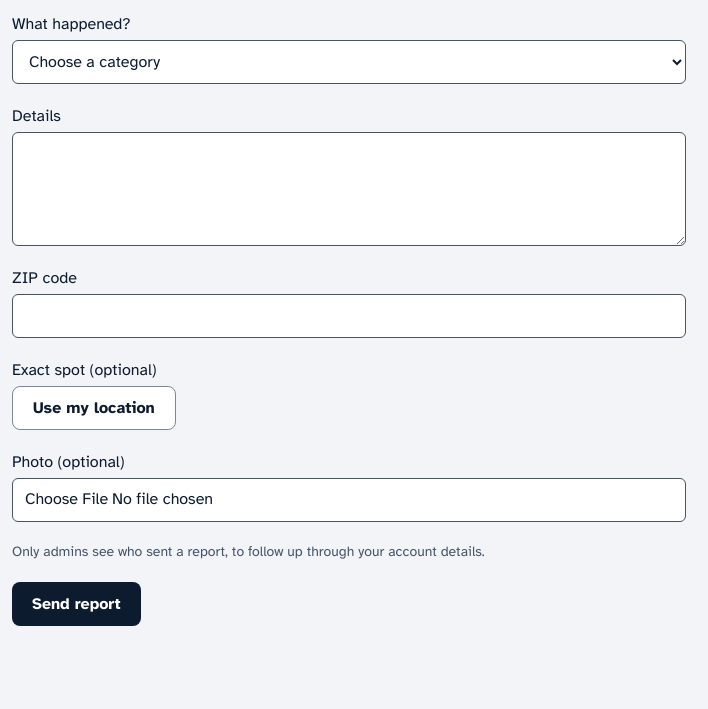
Test: IncidentForm › shows the service's refusal
Select "Other" in the dropdown labelled "What happened?" at {"x": 349, "y": 62}, box [12, 40, 686, 84]
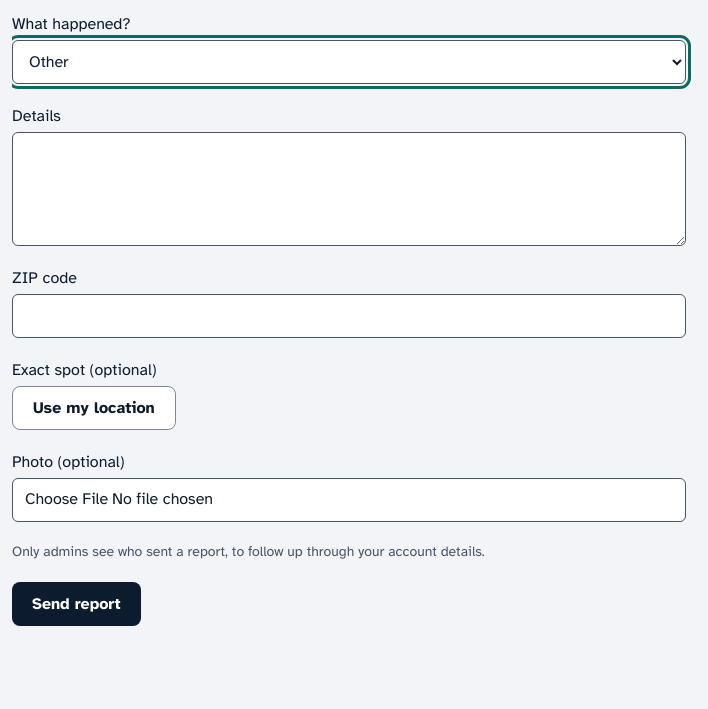
Type "x" into the text box labelled "Details" at {"x": 349, "y": 189}, box [12, 132, 686, 246]
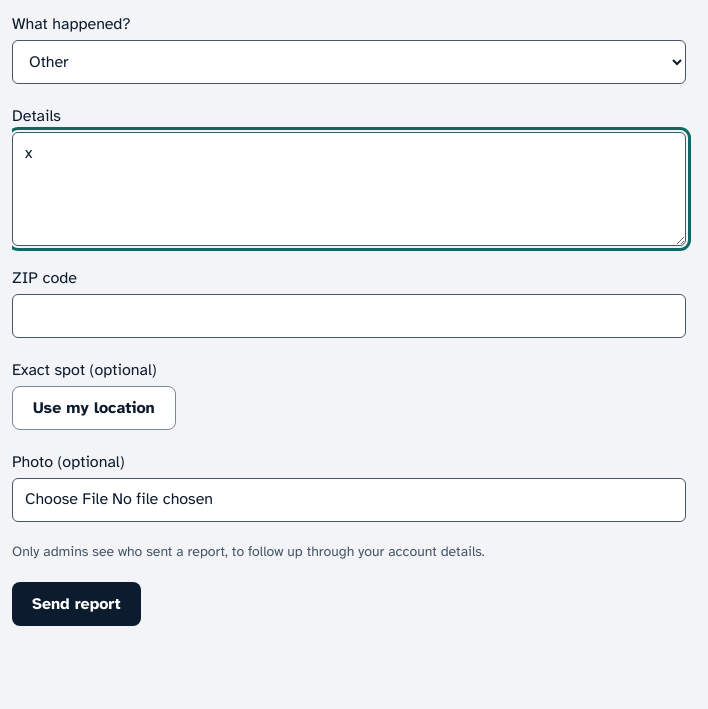
Type "94110" into the field labelled "ZIP code" at {"x": 349, "y": 316}, box [12, 294, 686, 338]
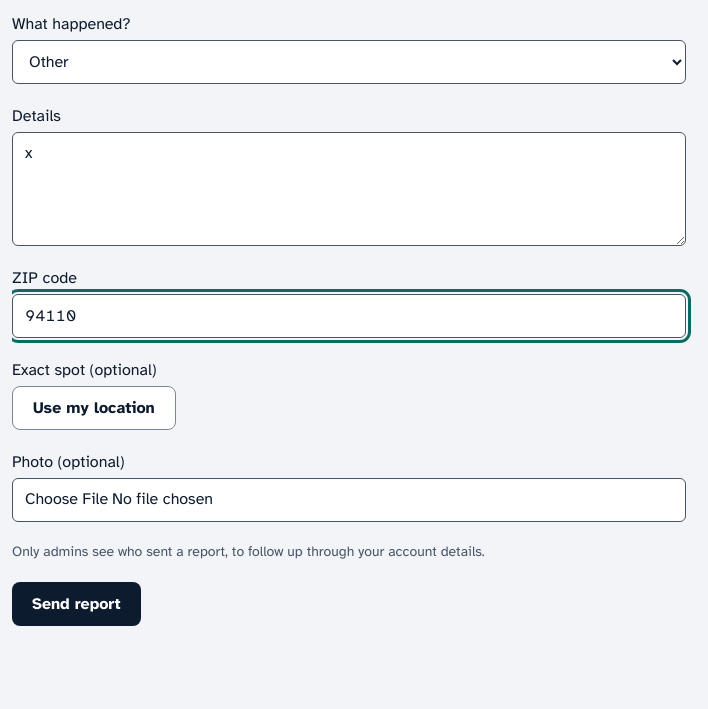
Click the button "Use my location" at {"x": 94, "y": 408}, box [12, 386, 176, 430]
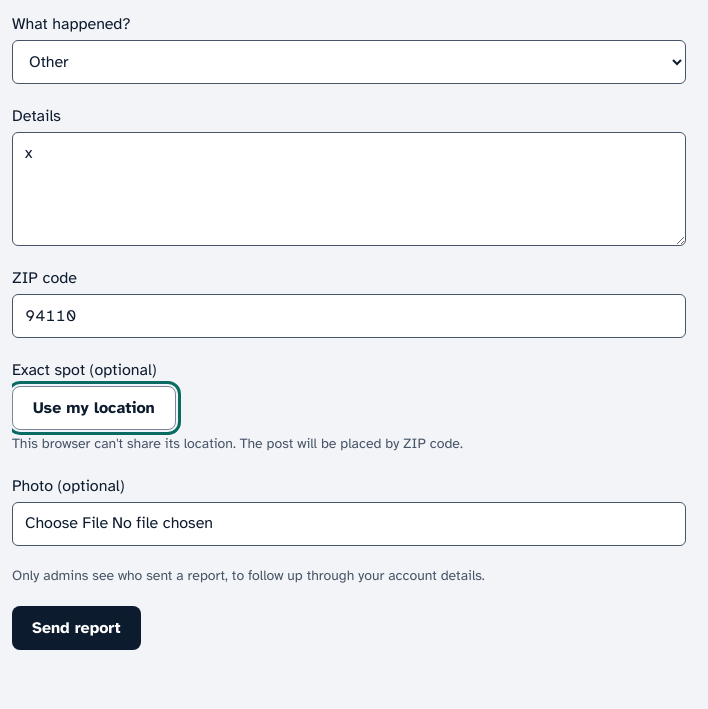
Now the text "This browser can't share its location. The post will be placed by ZIP code." is shown, box [12, 435, 463, 452]
Click the button "Send report" at {"x": 76, "y": 628}, box [12, 606, 141, 650]
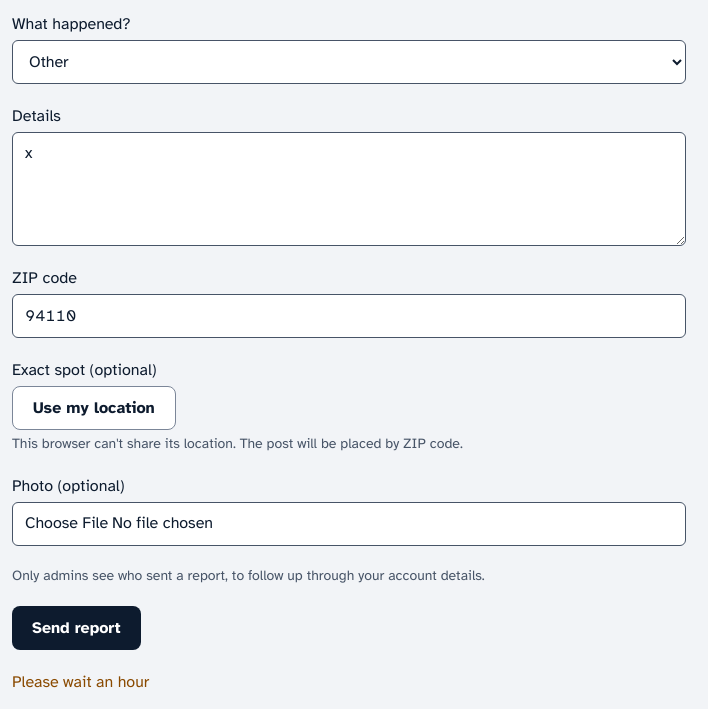
Now the message "Please wait an hour" is shown, box [12, 672, 149, 692]
